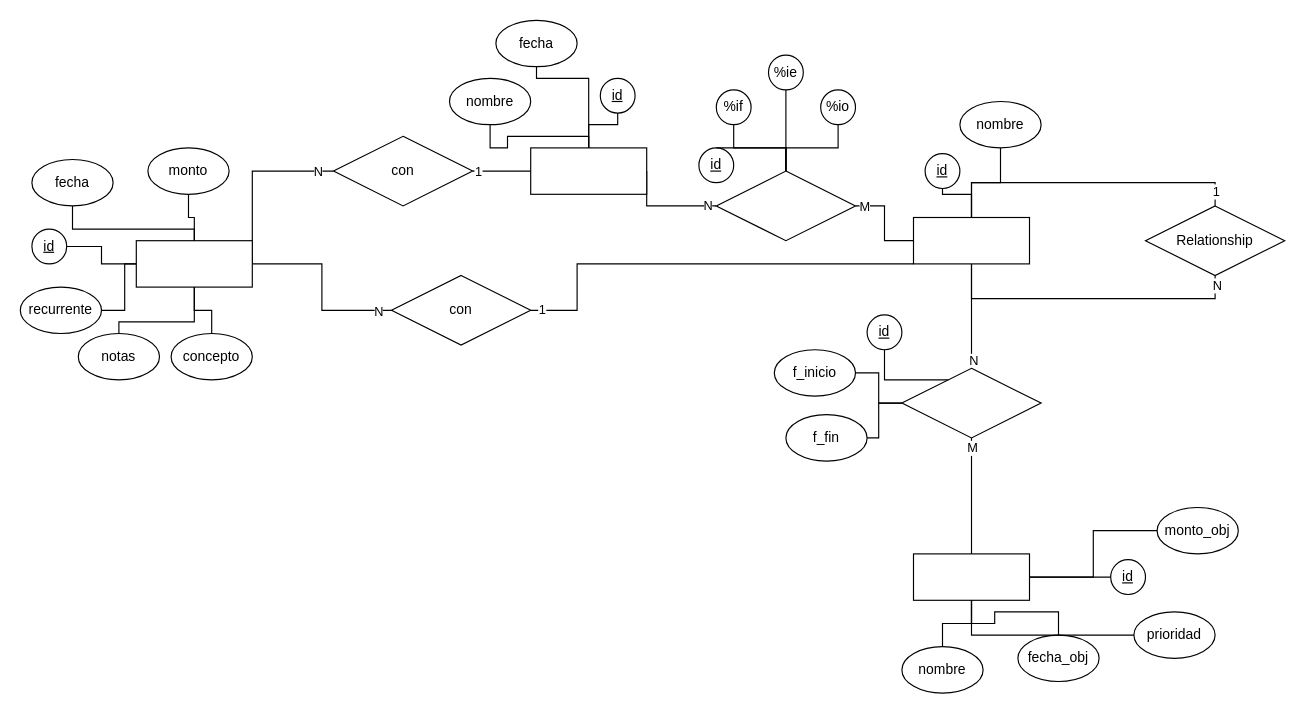
This 1305x713 diagram has some shape labels left out. The centre of each missing label's shape, as x and y in pixels:
"Categoria" belongs at (971,240).
"MapCatObj" belongs at (971,402).
"MapPerCat" belongs at (785,205).
"Movimiento" belongs at (193,263).
"Objetivo" belongs at (971,576).
"Periodo" belongs at (588,170).
